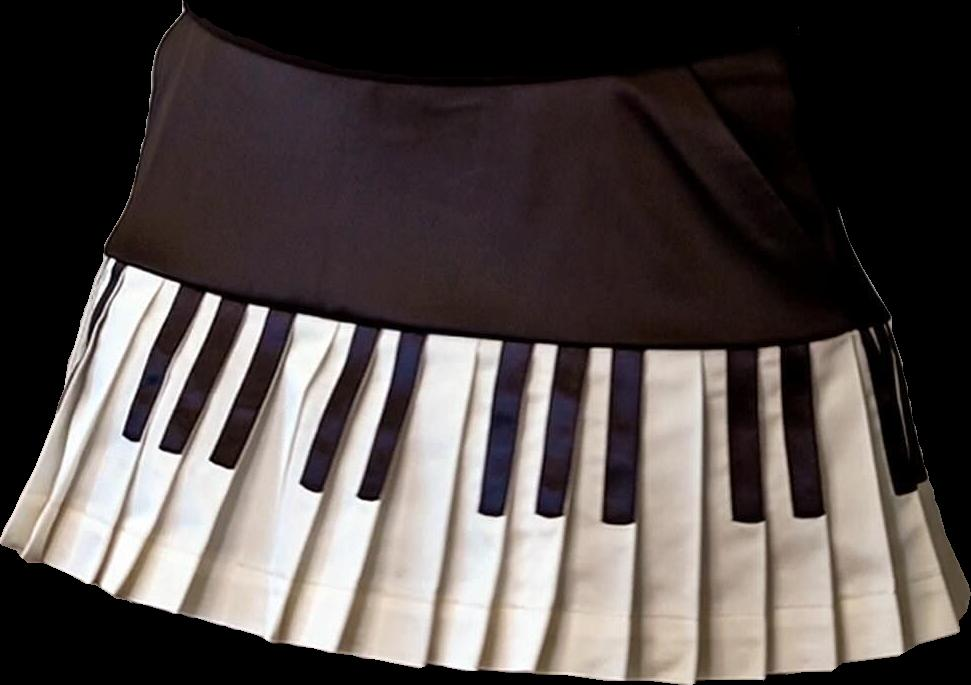Hemline: (0, 537, 970, 684)
Waistline: (102, 249, 892, 353), (180, 1, 799, 93)
